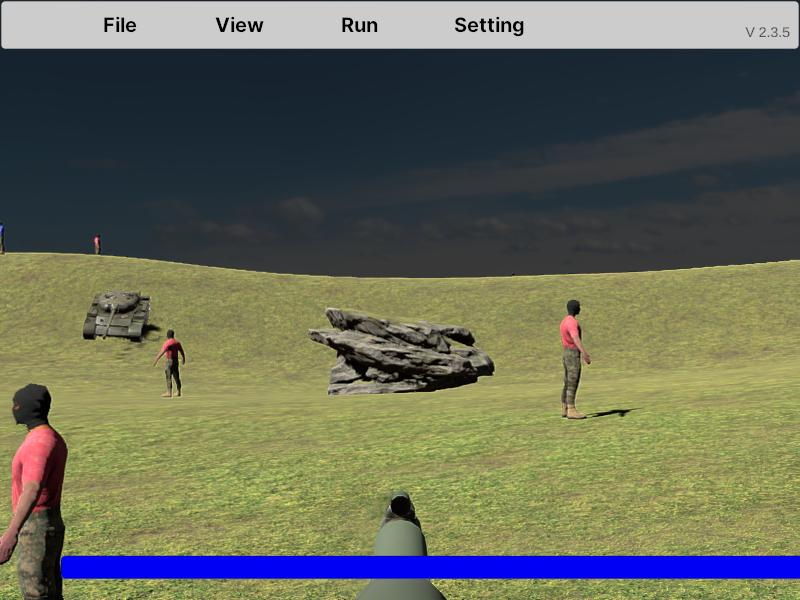Human: (1, 382, 67, 599), (560, 298, 591, 419), (154, 328, 185, 398)
Tank: (83, 288, 151, 344)
